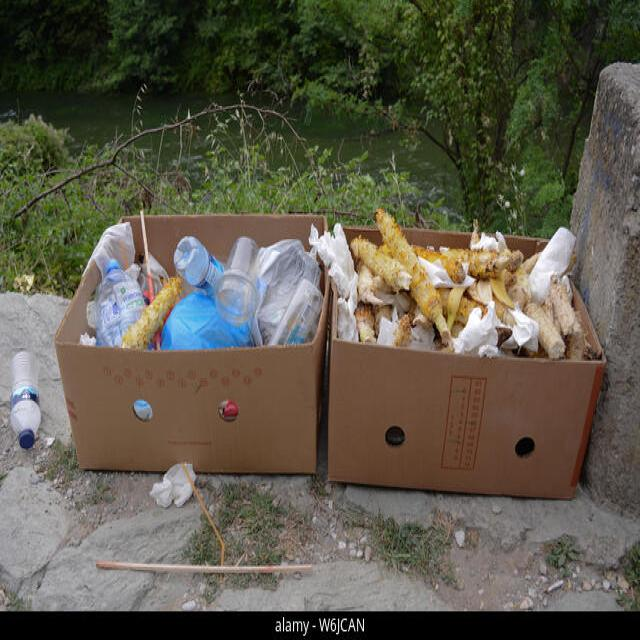cardboard: (62, 321, 608, 544)
plastic: (91, 226, 313, 357)
trash: (336, 241, 590, 368)
